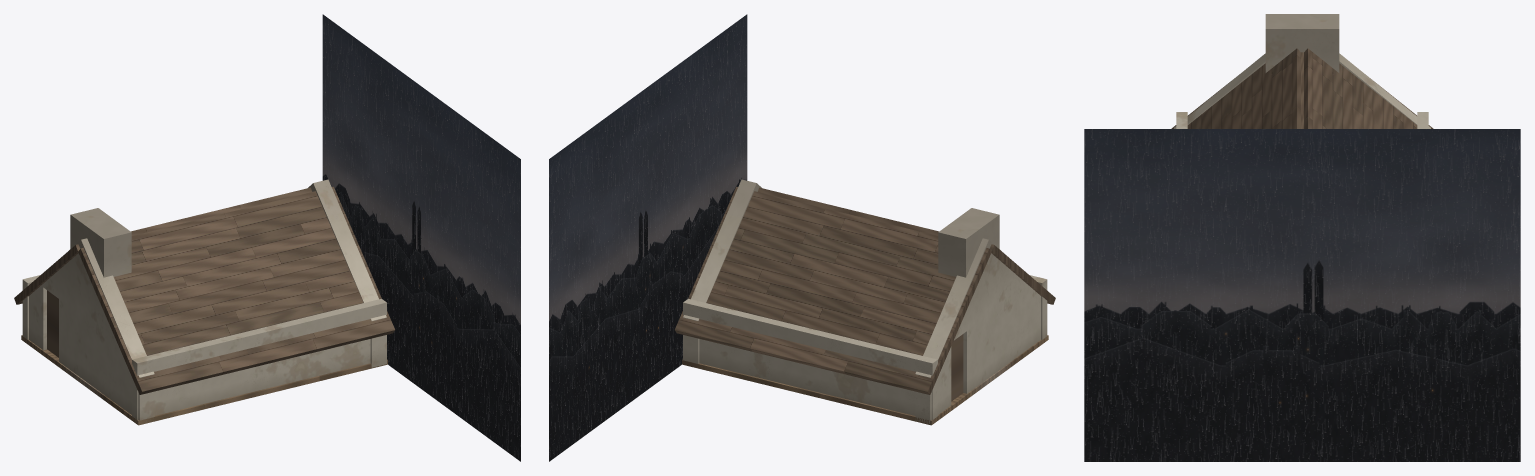
File: ingolstadt_garret.gltf
3 views of the same model, side by side, from view 1: azimuth 30°, elevation 25°; view 2: azimuth 150°, elevation 25°; view 3: azimuth 270°, elevation 25° (orthographic). The views are drawn at different scales.
Visible parts, largest first — view 1: far.night, MESH_RoofBoards, MESH_Plaster, MESH_Floorboards, MESH_DoorBoards; view 2: far.night, MESH_RoofBoards, MESH_Plaster, MESH_Floorboards, MESH_DoorBoards; view 3: far.night, MESH_RoofBoards, MESH_Plaster.
Part boxes in pixels (left/top/right/bottom): far.night: left=322, top=14, right=520, bottom=461; MESH_RoofBoards: left=14, top=186, right=394, bottom=394; MESH_Plaster: left=22, top=179, right=386, bottom=421; MESH_Floorboards: left=21, top=335, right=387, bottom=425; MESH_DoorBoards: left=47, top=290, right=58, bottom=357; far.night: left=549, top=14, right=747, bottom=461; MESH_RoofBoards: left=675, top=186, right=1055, bottom=394; MESH_Plaster: left=683, top=179, right=1047, bottom=423; MESH_Floorboards: left=682, top=335, right=1048, bottom=425; MESH_DoorBoards: left=951, top=334, right=963, bottom=401; far.night: left=1084, top=129, right=1520, bottom=461; MESH_RoofBoards: left=1171, top=48, right=1433, bottom=128; MESH_Plaster: left=1174, top=14, right=1430, bottom=128.
Bounding box in the file's own units: 9.5 × 8 × 9.5.
30 materials, 30 textured.
